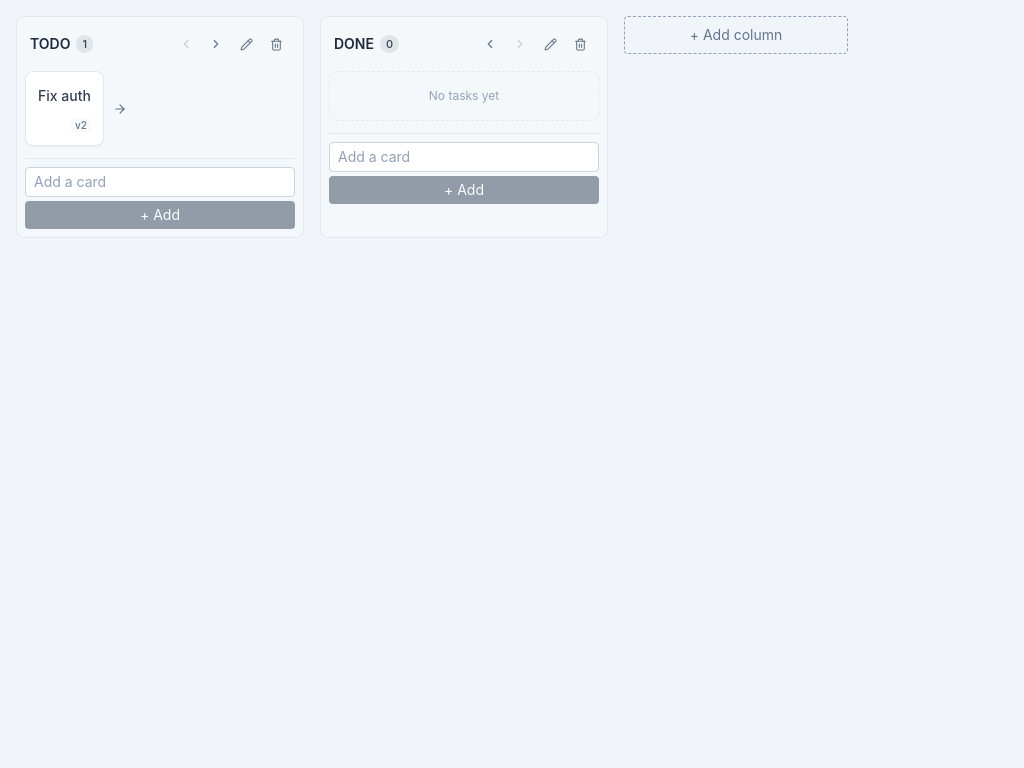
Test: Board › surfaces non-conflict move errors as a flash and reloads
This screenshot has width=1024, height=768.
Click the button named "move Fix auth to DONE" at (120, 109), box x1=104 y1=93 x2=136 y2=125
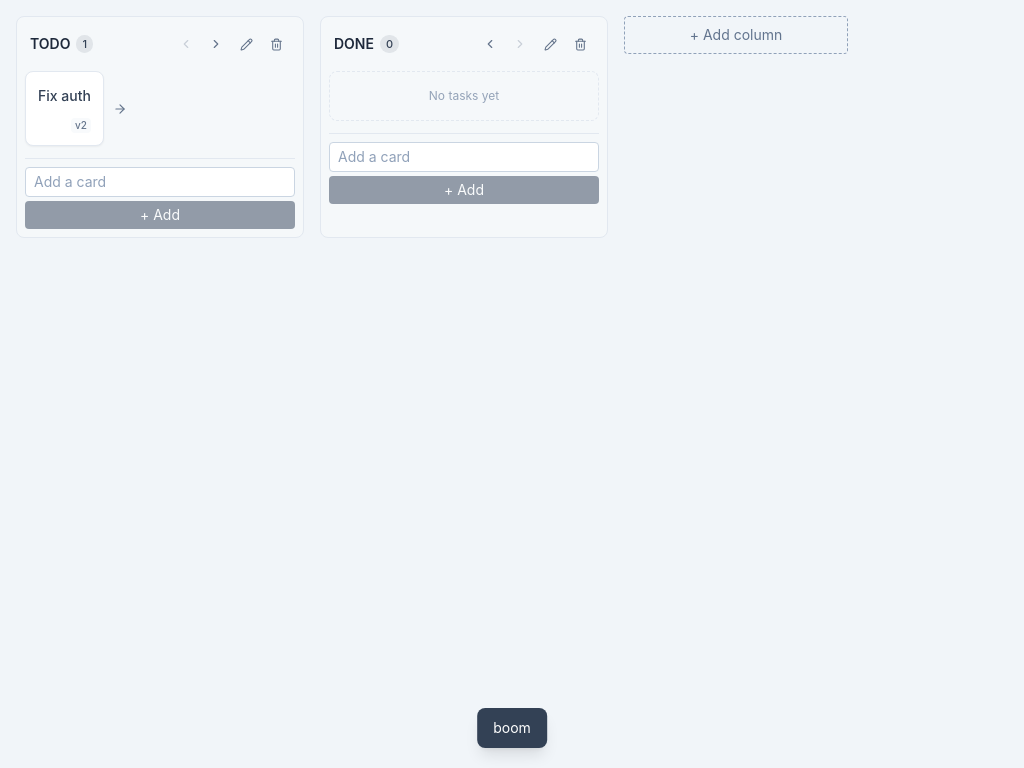
Result: the message reads "boom" at x1=493 y1=719 x2=531 y2=736
